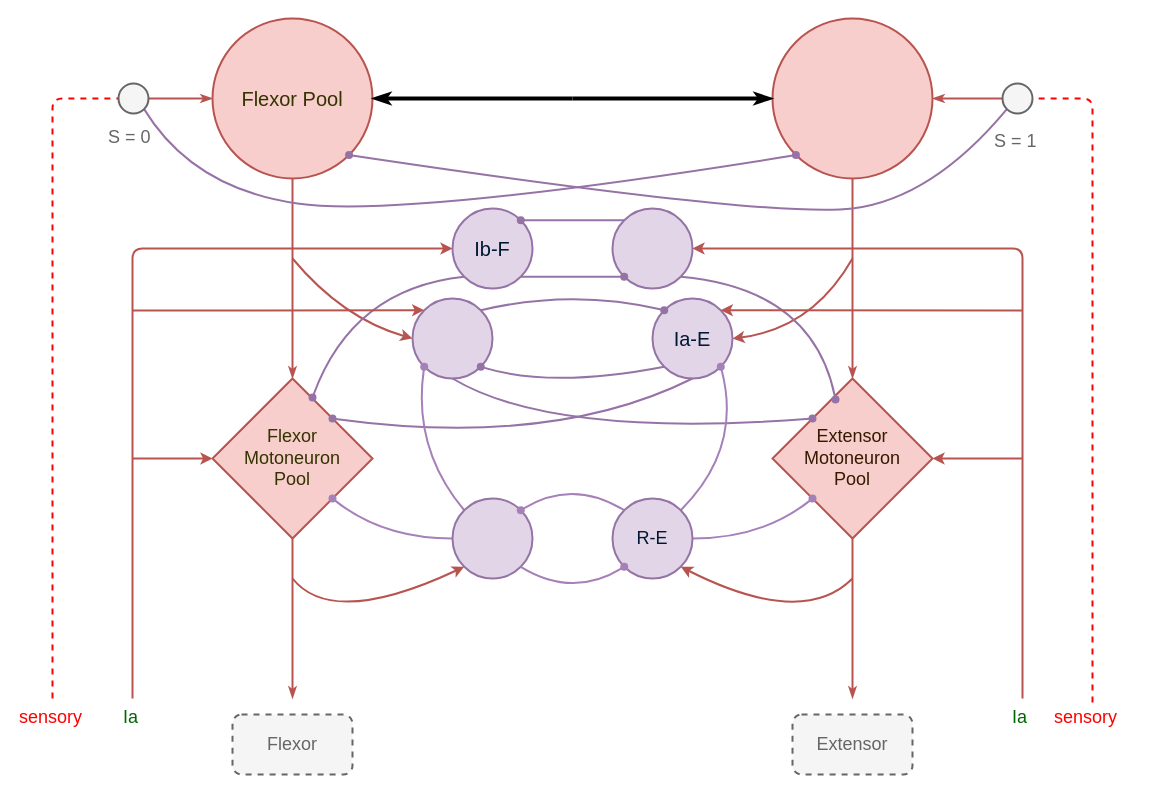
Some shapes in this 1149 by 792 pixel diagram are drawn without their labels. The shapes that lost their labels are listed below. From the top down, each one's centre as x and y in pixels, then its label:
At [852,98]: "Extensor Pool".
At [652,248]: "Ib-E".
At [452,338]: "Ia-F".
At [492,538]: "R-F".
